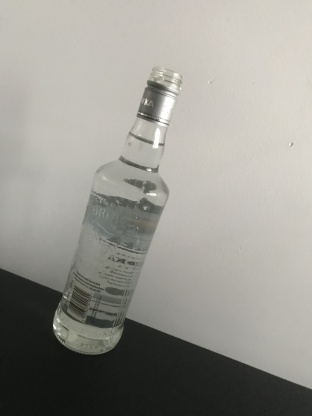nakretka: (134, 63, 184, 129)
